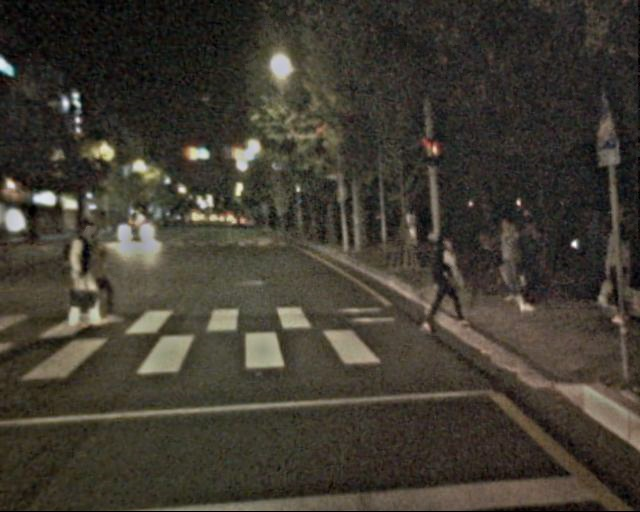person: (63, 215, 108, 324), (594, 222, 637, 328), (423, 230, 466, 336), (514, 218, 553, 314), (80, 227, 119, 321), (581, 206, 616, 292), (494, 216, 528, 299), (516, 206, 550, 288)
